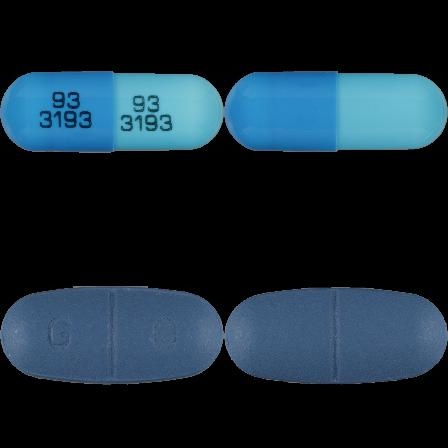52959-245: (0, 0, 224, 224)
